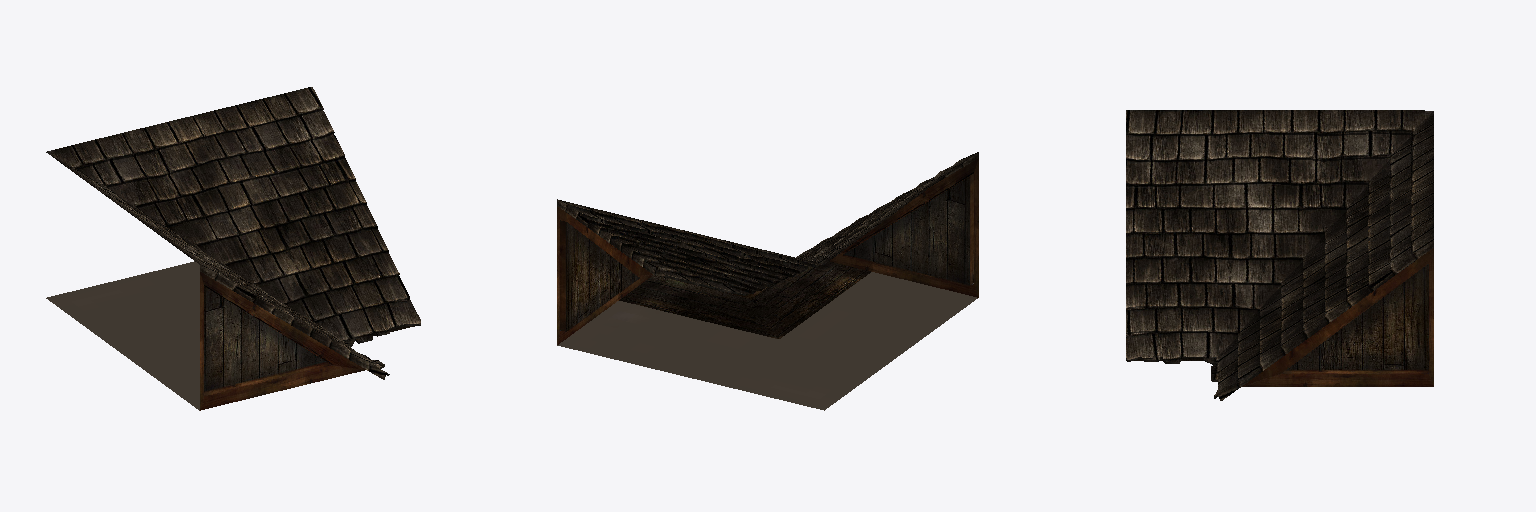
3 views of the same model, side by side, from view 1: azimuth 30°, elevation 25°; view 2: azimuth 150°, elevation 25°; view 3: azimuth 270°, elevation 25° (orthographic).
Parts seen in each view (by area): view 1: Roof001_C02_SC003; view 2: Roof001_C02_SC003; view 3: Roof001_C02_SC003.
Part boxes in pixels (bbox=[...]): Roof001_C02_SC003: bbox=[46, 87, 420, 410]; Roof001_C02_SC003: bbox=[557, 152, 978, 410]; Roof001_C02_SC003: bbox=[1126, 110, 1433, 400].
Bounding box in the file's own units: 256 × 147 × 256.
Materials: 1 (1 with a texture image).